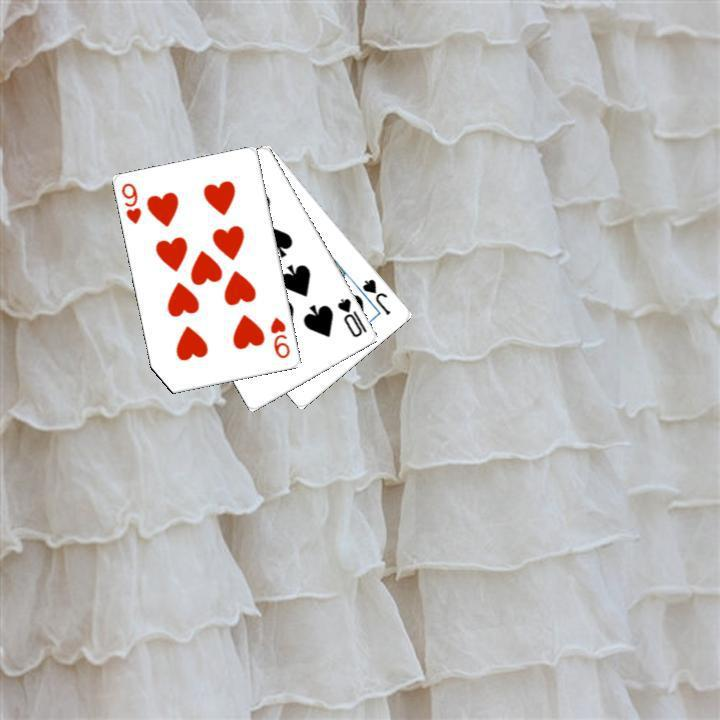10: (333, 294, 369, 340)
9: (117, 179, 144, 226), (266, 313, 292, 361)
J: (358, 274, 393, 317)
